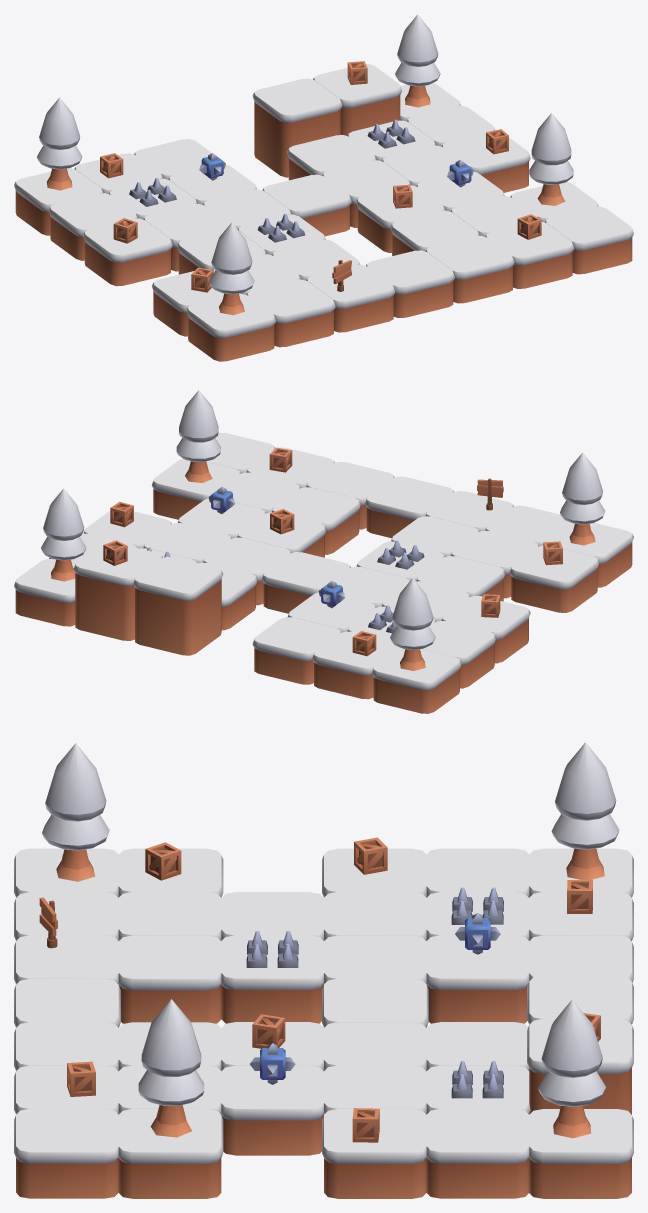
Rendered from level2.glb.
3 views of the same model, one above another, from view 1: azimuth 30°, elevation 25°; view 2: azimuth 150°, elevation 25°; view 3: azimuth 270°, elevation 25° (orthographic). The views are drawn at different scales.
Parts seen in each view (by area): view 1: Tall_01, Block_28, Block_11, Block_34, Block_31, Block_32, Block_29, Block_30, Tall_02, Block_33, Block_14, Block_05 (+37 smaller); view 2: Tall_01, Tall_02, Block_22, Block_01, Block_03, Block_02, Block_31, Block_14, Block_04, Block_25, Block_27, Block_11 (+36 smaller); view 3: Block_34, Block_10, Block_21, Block_24, Block_27, Block_17, Block_04, Block_07, Block_19, Tree_03, Tree_02, Tree_01 (+40 smaller).
Boxes of the visible parts, x1=… form: Tall_01: x1=252, y1=78, x2=342, y2=177; Block_28: x1=186, y1=294, x2=275, y2=361; Block_11: x1=83, y1=218, x2=172, y2=286; Block_34: x1=544, y1=206, x2=633, y2=274; Block_31: x1=366, y1=250, x2=454, y2=317; Block_32: x1=425, y1=235, x2=514, y2=303; Block_29: x1=246, y1=279, x2=335, y2=347; Block_30: x1=306, y1=265, x2=395, y2=332; Tall_02: x1=313, y1=64, x2=401, y2=135; Block_33: x1=485, y1=221, x2=574, y2=288; Block_14: x1=262, y1=174, x2=351, y2=236; Block_05: x1=48, y1=193, x2=137, y2=260; Tall_01: x1=133, y1=556, x2=222, y2=655; Tall_02: x1=73, y1=542, x2=162, y2=640; Block_22: x1=509, y1=545, x2=599, y2=612; Block_01: x1=372, y1=647, x2=461, y2=713; Block_03: x1=252, y1=617, x2=341, y2=684; Block_02: x1=312, y1=631, x2=399, y2=699; Block_31: x1=365, y1=476, x2=453, y2=538; Block_14: x1=262, y1=552, x2=350, y2=613; Block_04: x1=14, y1=559, x2=75, y2=626; Block_25: x1=272, y1=487, x2=360, y2=554; Block_27: x1=151, y1=459, x2=240, y2=519; Block_11: x1=441, y1=595, x2=530, y2=663; Block_34: x1=14, y1=1108, x2=118, y2=1198; Block_10: x1=426, y1=1108, x2=529, y2=1198; Block_21: x1=221, y1=1065, x2=323, y2=1155; Block_24: x1=118, y1=935, x2=221, y2=1023; Block_27: x1=118, y1=1109, x2=223, y2=1198; Block_17: x1=322, y1=1109, x2=426, y2=1198; Block_04: x1=529, y1=1109, x2=633, y2=1198; Block_07: x1=426, y1=935, x2=529, y2=1023; Block_19: x1=221, y1=935, x2=323, y2=1023; Tree_03: x1=138, y1=999, x2=204, y2=1137; Tree_02: x1=538, y1=999, x2=606, y2=1138; Tree_01: x1=551, y1=742, x2=619, y2=879.
Size of what is drawn, in the model's own units: 14.08 by 3.8 by 12.08.
1 material, 1 textured.
